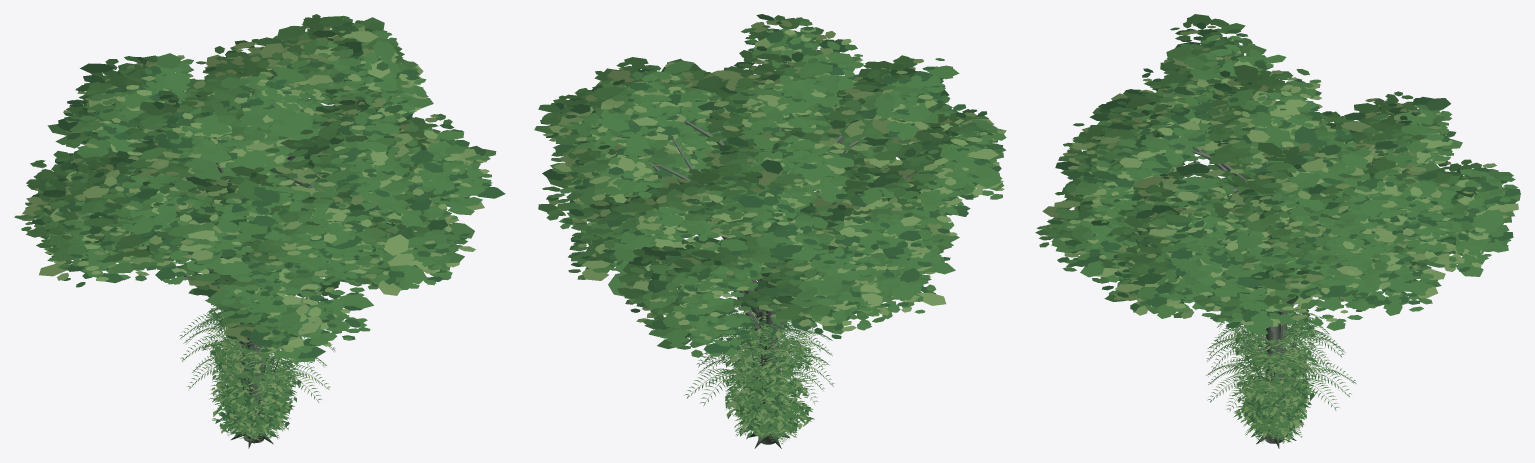
The model's file is environment.glb.
3 views of the same model, side by side, from view 1: azimuth 30°, elevation 25°; view 2: azimuth 150°, elevation 25°; view 3: azimuth 270°, elevation 25° (orthographic). The views are drawn at different scales.
Visible parts, largest first — view 1: leaf_rainforest.002, leaf_rainforest.003, leaf_rainforest.006, leaf_rainforest.007, leaf_rainforest, leaf_rainforest.005, leaf_rainforest.001, leaf_rainforest.004, leaf_understory.002, leaf_understory.001, leaf_understory, leaf_fronds.001 (+2 smaller); view 2: leaf_rainforest.003, leaf_rainforest.002, leaf_rainforest, leaf_rainforest.001, leaf_rainforest.007, leaf_rainforest.006, leaf_rainforest.004, leaf_rainforest.005, leaf_understory.002, leaf_understory.001, leaf_understory, leaf_fronds.001 (+2 smaller); view 3: leaf_rainforest.007, leaf_rainforest.006, leaf_rainforest.003, leaf_rainforest.002, leaf_rainforest.004, leaf_rainforest.005, leaf_rainforest, leaf_rainforest.001, leaf_understory.002, leaf_fronds.001, leaf_understory.001, leaf_fronds.003 (+2 smaller).
Boxes of the visible parts, x1,y1,x2,y2 form: leaf_rainforest.002: [38, 28, 428, 301]; leaf_rainforest.003: [31, 16, 433, 298]; leaf_rainforest.006: [77, 14, 491, 274]; leaf_rainforest.007: [80, 17, 505, 273]; leaf_rainforest: [30, 35, 475, 324]; leaf_rainforest.005: [22, 70, 464, 362]; leaf_rainforest.001: [33, 37, 476, 318]; leaf_rainforest.004: [14, 78, 460, 357]; leaf_understory.002: [207, 305, 302, 422]; leaf_understory.001: [212, 338, 301, 432]; leaf_understory: [211, 378, 296, 440]; leaf_fronds.001: [187, 337, 330, 413]; leaf_rainforest.003: [577, 53, 963, 286]; leaf_rainforest.002: [575, 46, 965, 295]; leaf_rainforest: [565, 63, 1006, 357]; leaf_rainforest.001: [558, 58, 1006, 353]; leaf_rainforest.007: [534, 18, 962, 331]; leaf_rainforest.006: [540, 14, 974, 322]; leaf_rainforest.004: [542, 109, 1004, 338]; leaf_rainforest.005: [538, 103, 1006, 333]; leaf_understory.002: [719, 305, 811, 419]; leaf_understory.001: [722, 358, 808, 434]; leaf_understory: [725, 387, 814, 439]; leaf_fronds.001: [684, 347, 834, 415]; leaf_rainforest.007: [1055, 97, 1462, 293]; leaf_rainforest.006: [1063, 91, 1456, 297]; leaf_rainforest.003: [1089, 14, 1447, 262]; leaf_rainforest.002: [1098, 16, 1449, 271]; leaf_rainforest.004: [1037, 96, 1517, 328]; leaf_rainforest.005: [1035, 89, 1520, 335]; leaf_rainforest: [1060, 53, 1508, 315]; leaf_rainforest.001: [1062, 53, 1513, 318]; leaf_understory.002: [1228, 302, 1323, 419]; leaf_fronds.001: [1206, 348, 1356, 415]; leaf_understory.001: [1232, 350, 1317, 431]; leaf_fronds.003: [1206, 325, 1345, 389].
Bounding box in the file's own units: 13.07 × 11.85 × 14.5.
